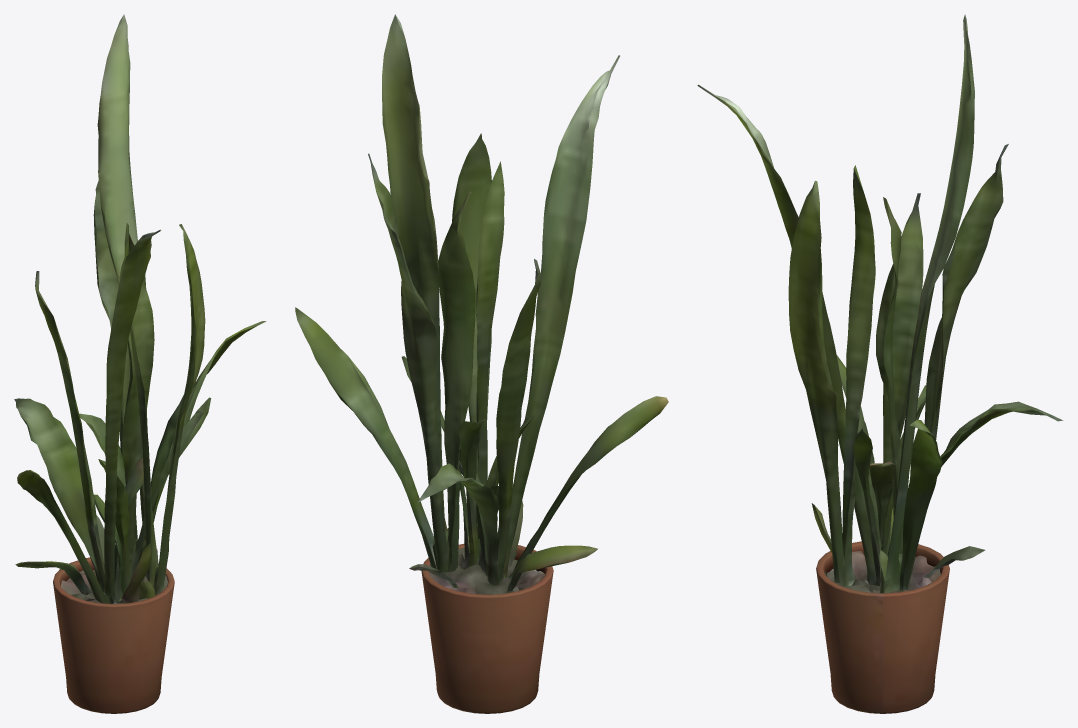
Rendered from plant.glb.
The picture shows the model from 3 angles, left to right: view 1: azimuth 30°, elevation 25°; view 2: azimuth 150°, elevation 25°; view 3: azimuth 270°, elevation 25°; orthographic projection. The views are drawn at different scales.
Visible parts, largest first — view 1: flowerLP_flowerLP_0; view 2: flowerLP_flowerLP_0; view 3: flowerLP_flowerLP_0.
Part boxes in pixels (<box>): flowerLP_flowerLP_0: <box>14,14,266,713</box>; flowerLP_flowerLP_0: <box>295,14,668,713</box>; flowerLP_flowerLP_0: <box>697,14,1063,713</box>.
Bounding box in the file's own units: 0.373 × 0.7705 × 0.3626.
1 material, 1 textured.
